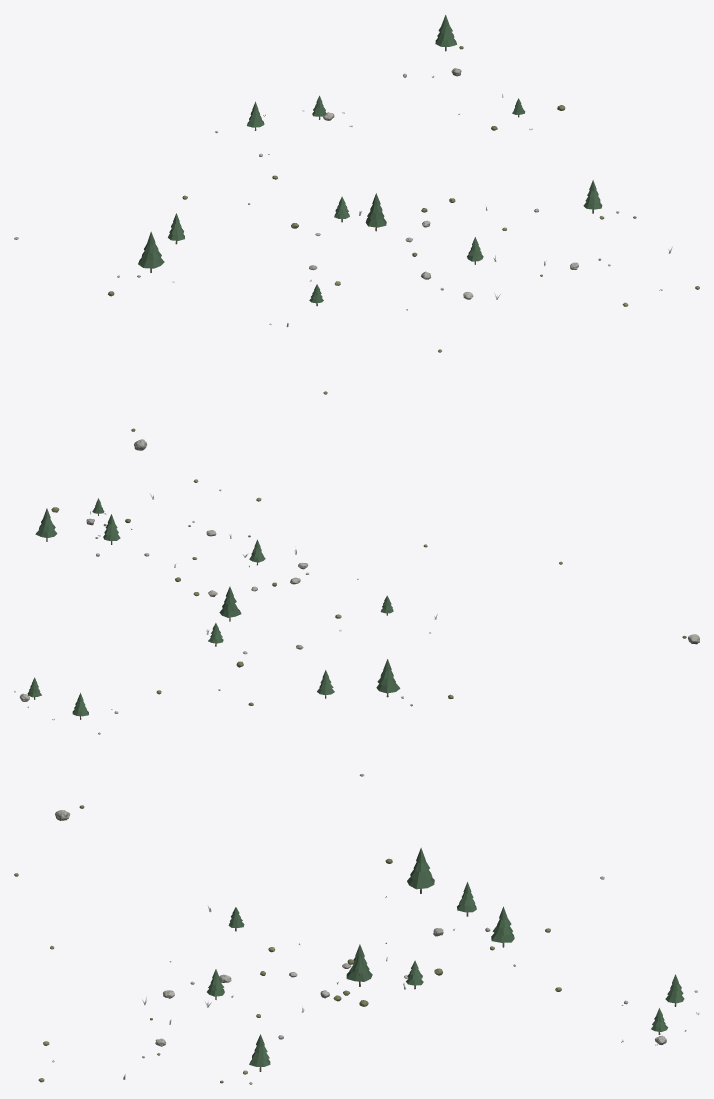
The model's file is coast_land_scatter_c09_18.glb.
3 renders of one model, top to bottom at view 1: azimuth 30°, elevation 25°; view 2: azimuth 150°, elevation 25°; view 3: azimuth 270°, elevation 25°, orthographic. The views are drawn at different scales.
Parts seen in each view (by area): view 1: coast_land_scatter_c09_18; view 2: coast_land_scatter_c09_18; view 3: coast_land_scatter_c09_18.
Part boxes in pixels (left/top/right/bottom): coast_land_scatter_c09_18: left=14, top=15, right=699, bottom=450; coast_land_scatter_c09_18: left=14, top=479, right=699, bottom=776; coast_land_scatter_c09_18: left=14, top=805, right=699, bottom=1084.
Bounding box in the file's own units: 239 × 67.21 × 222.
